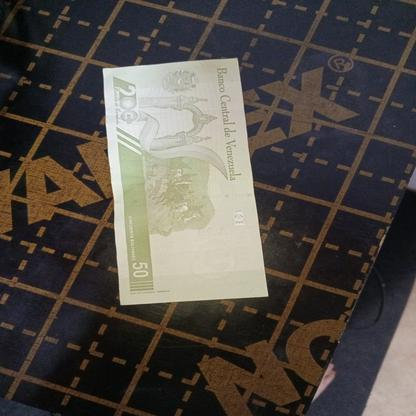fifty-back-vef: (102, 58, 269, 306)
